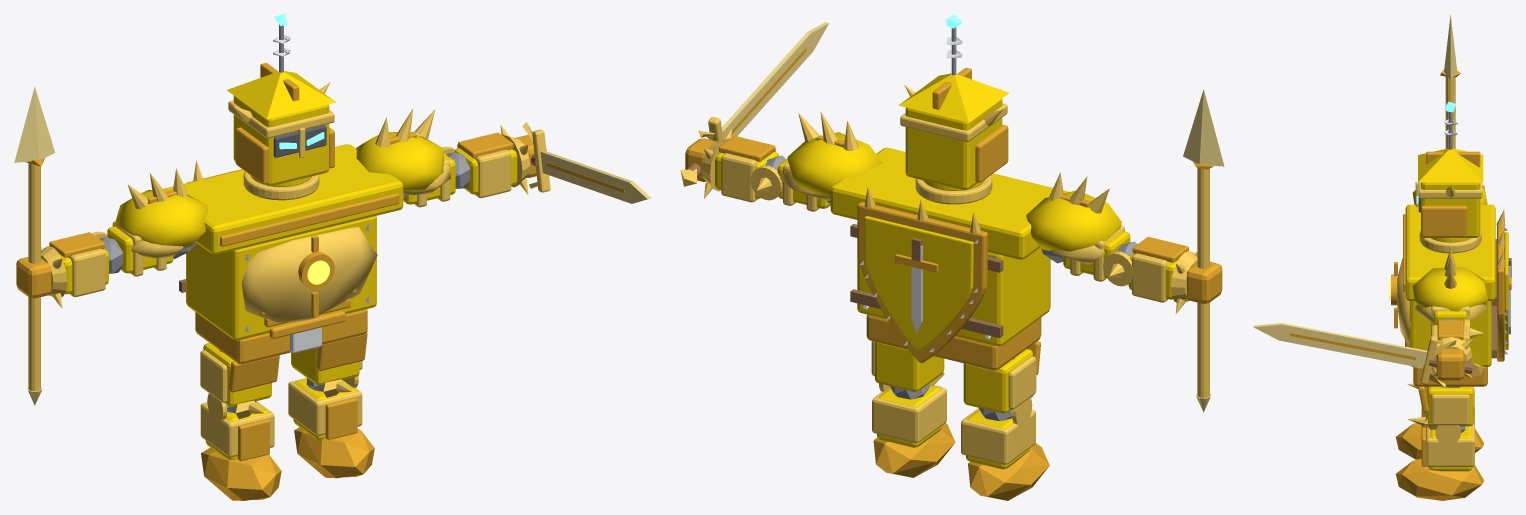
The model's file is knight-lo.glb.
3 renders of one model, left to right at view 1: azimuth 30°, elevation 25°; view 2: azimuth 150°, elevation 25°; view 3: azimuth 270°, elevation 25°, orthographic. The views are drawn at different scales.
Parts seen in each view (by area): view 1: Shoulders, A_Breastplate, Torso, Pauldron_L, Pauldron_R, Head, Hips, Boot_L, Boot_R, HelmPeak, SpearShaft, SwordBlade (+25 smaller); view 2: Shoulders, ShieldFace, Torso, Head, ShieldRim, Pauldron_L, Pauldron_R, Hips, HelmPeak, A_Greave_R, A_Greave_L, Boot_L (+24 smaller); view 3: Shoulders, SwordBlade, Boot_R, Pauldron_R, Torso, HelmPeak, Cheek_R, Head, A_Greave_R, A_Cuisse_R, ShieldRim, Fist_R (+19 smaller).
Part boxes in pixels (x1,y1,x2,y2): Shoulders: [163, 144, 403, 254]; A_Breastplate: [241, 227, 377, 322]; Torso: [186, 216, 376, 340]; Pauldron_L: [115, 189, 207, 248]; Pauldron_R: [356, 132, 443, 190]; Head: [233, 95, 329, 186]; Hips: [195, 309, 367, 364]; Boot_L: [201, 447, 281, 500]; Boot_R: [294, 427, 374, 478]; HelmPeak: [227, 71, 336, 119]; SpearShaft: [28, 163, 40, 394]; SwordBlade: [540, 151, 651, 203]; Shoulders: [830, 147, 1068, 259]; ShieldFace: [864, 216, 973, 350]; Torso: [857, 222, 1050, 346]; Head: [905, 98, 1002, 190]; ShieldRim: [857, 202, 987, 363]; Pauldron_L: [1026, 190, 1121, 251]; Pauldron_R: [787, 132, 882, 196]; Hips: [866, 314, 1041, 370]; HelmPeak: [898, 73, 1009, 122]; A_Greave_R: [872, 385, 946, 443]; A_Greave_L: [961, 408, 1035, 464]; Boot_L: [968, 443, 1049, 500]; Shoulders: [1405, 204, 1495, 300]; SwordBlade: [1253, 323, 1427, 368]; Boot_R: [1396, 458, 1483, 500]; Pauldron_R: [1412, 267, 1487, 311]; Torso: [1409, 301, 1491, 366]; HelmPeak: [1418, 148, 1483, 182]; Cheek_R: [1421, 205, 1467, 237]; Head: [1421, 182, 1480, 237]; A_Greave_R: [1426, 423, 1474, 466]; A_Cuisse_R: [1431, 394, 1469, 425]; ShieldRim: [1497, 225, 1504, 361]; Fist_R: [1436, 349, 1464, 380].
Bounding box in the file's own units: 3.84 × 3.23 × 2.01.
